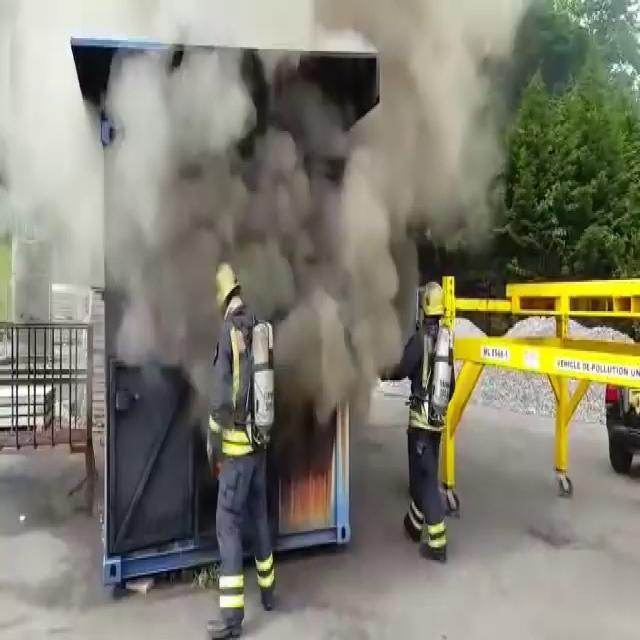Smoke: (102, 8, 459, 426)
